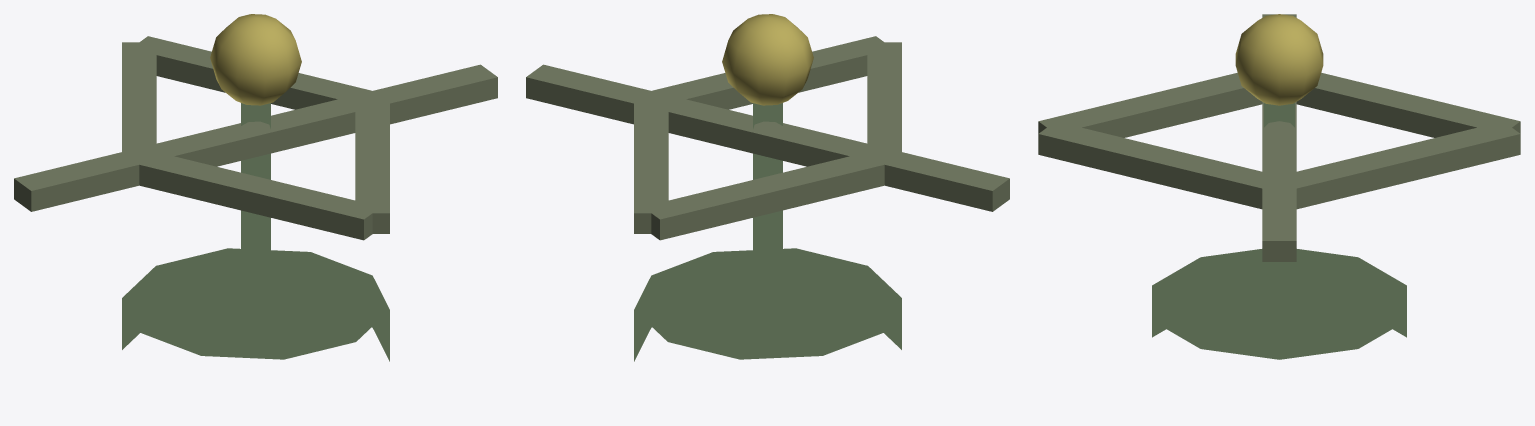
The model's file is p_romashka.glb.
3 views of the same model, side by side, from view 1: azimuth 30°, elevation 25°; view 2: azimuth 150°, elevation 25°; view 3: azimuth 270°, elevation 25° (orthographic).
Visible parts, largest first — view 1: body; view 2: body; view 3: body.
Boxes of the visible parts, <box> form: body: <box>14,14,497,361</box>; body: <box>526,14,1009,361</box>; body: <box>1038,14,1520,359</box>.
Bounding box in the file's own units: 2.8 × 1.94 × 2.51.
